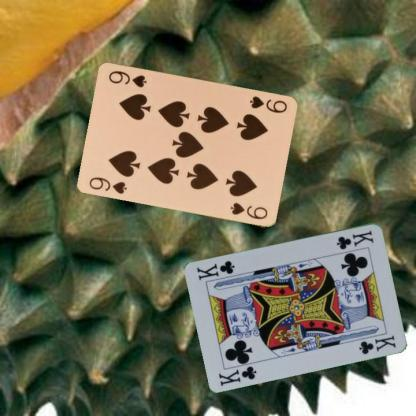9s: (247, 93, 290, 114), (87, 174, 128, 195)
Kc: (216, 363, 258, 387), (334, 228, 375, 250)
